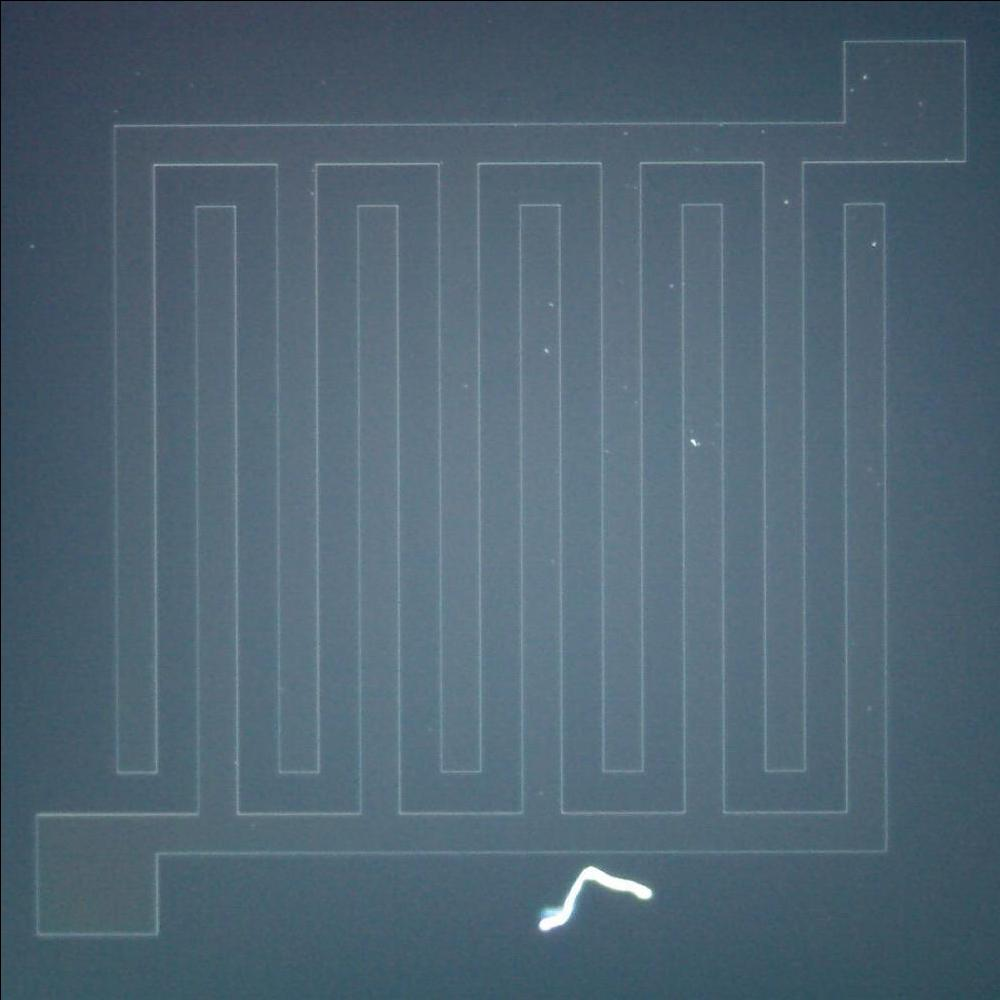dot: (864, 233, 882, 252), (777, 191, 794, 209)
line: (528, 861, 660, 936)
